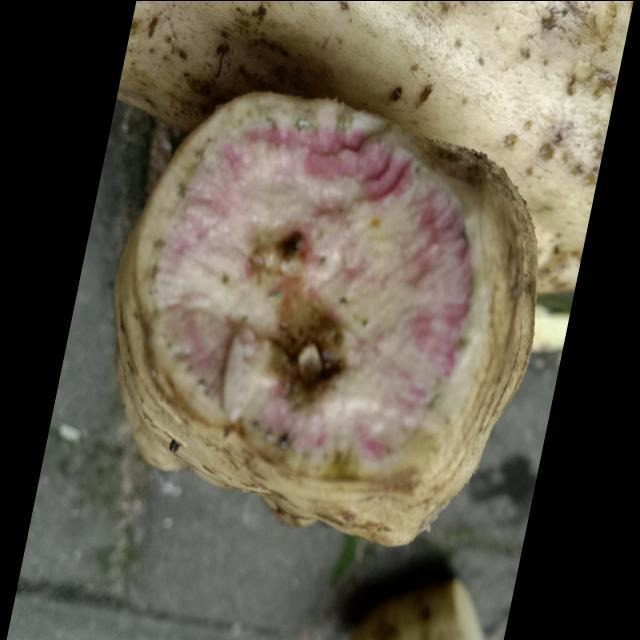Sick Sweet Potato_Tuber Rot: (116, 93, 488, 492)
